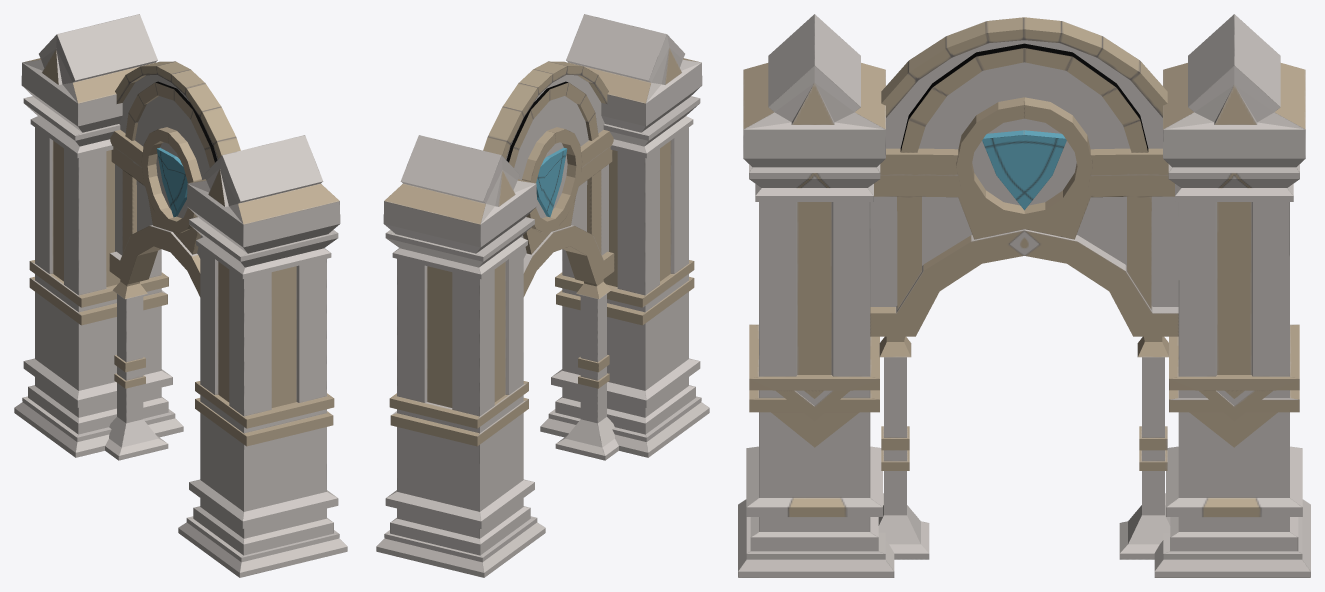
The model's file is Gate.fbx.
The picture shows the model from 3 angles, left to right: view 1: azimuth 30°, elevation 25°; view 2: azimuth 150°, elevation 25°; view 3: azimuth 270°, elevation 25°; orthographic projection. The views are drawn at different scales.
Parts seen in each view (by area): view 1: tiang kecil.kiri; view 2: tiang kecil.kiri; view 3: tiang kecil.kiri.
Part boxes in pixels (left/top/right/bottom): tiang kecil.kiri: left=14, top=14, right=347, bottom=577; tiang kecil.kiri: left=376, top=14, right=709, bottom=577; tiang kecil.kiri: left=738, top=14, right=1310, bottom=577.
Size of the model in its own units: 110 by 400 by 398.
